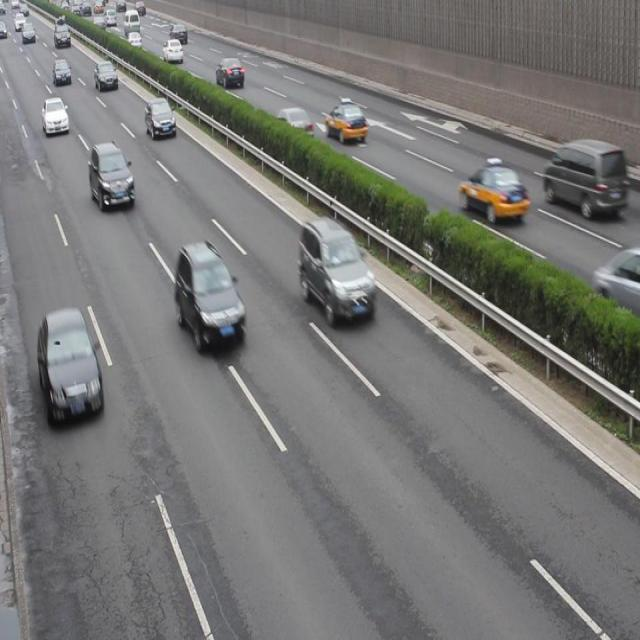car: (298, 214, 374, 326), (37, 307, 103, 428), (175, 242, 246, 352), (459, 162, 527, 225), (89, 140, 135, 212), (594, 248, 640, 319), (324, 102, 367, 145), (271, 105, 312, 147), (145, 96, 176, 142), (41, 96, 70, 139), (216, 56, 246, 92)
truck: (542, 139, 624, 218)
